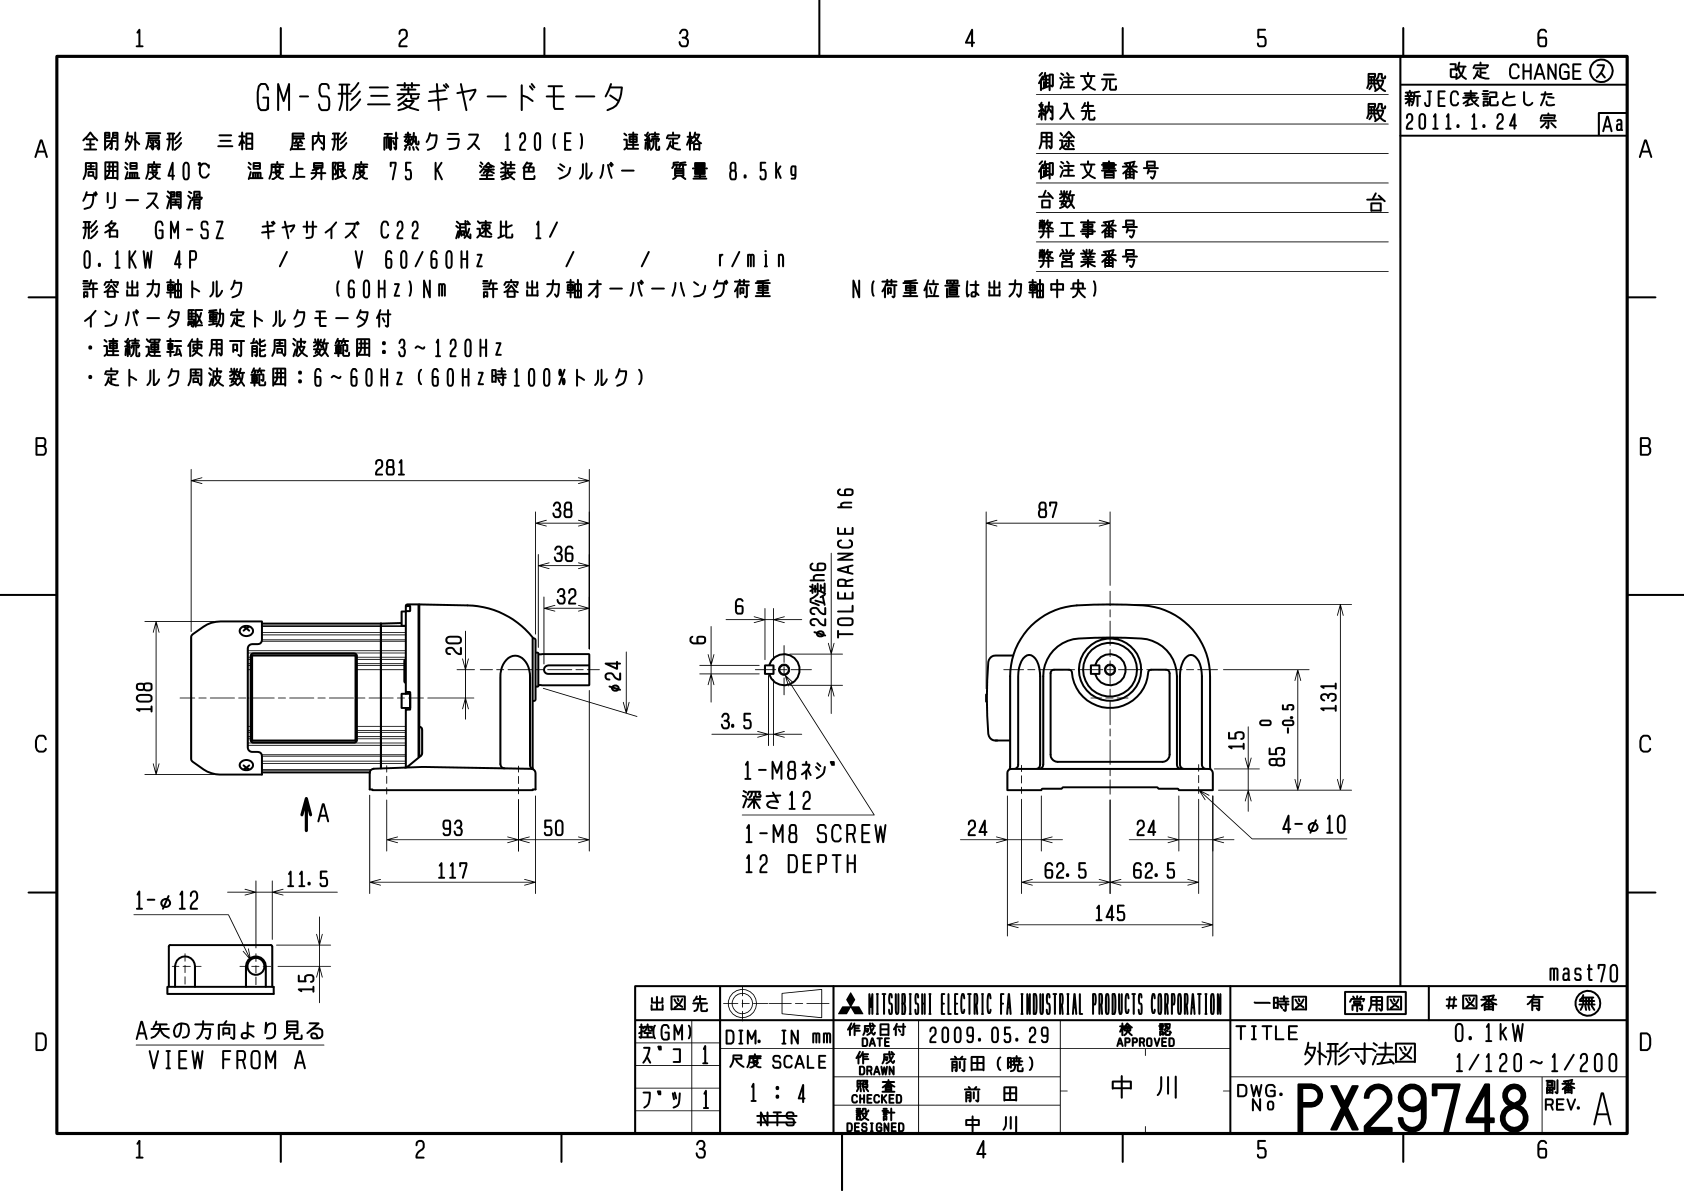GM_S_インバタ屋外＿三相_脚: (77, 420, 1379, 949)
